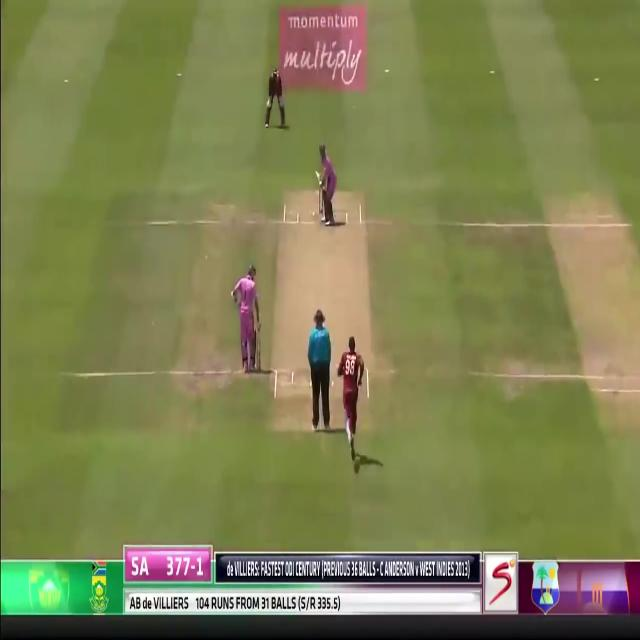Ball: (233, 262, 260, 372), (316, 142, 339, 226)
Fielder: (339, 335, 369, 467)
Umpire: (307, 308, 332, 436)
